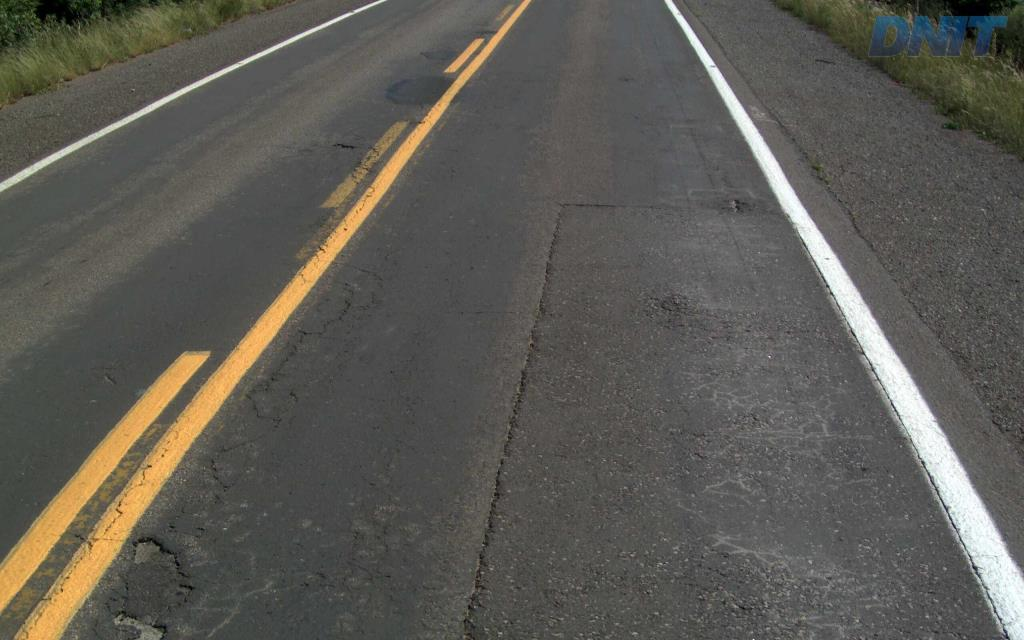crack: (503, 330, 540, 457), (474, 458, 505, 590), (462, 592, 504, 639)
pothole: (127, 530, 182, 565), (109, 609, 167, 638)
